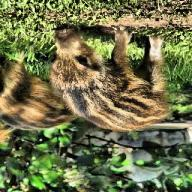boar: (48, 24, 171, 132)
